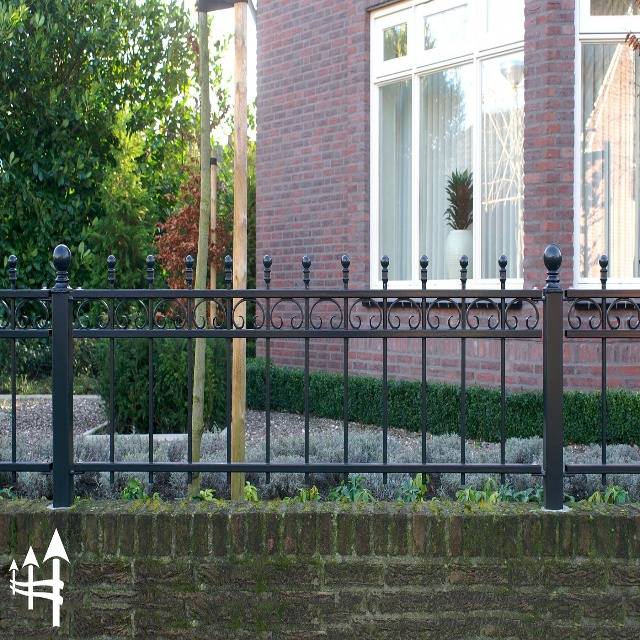obstacle: (0, 129, 451, 638)
